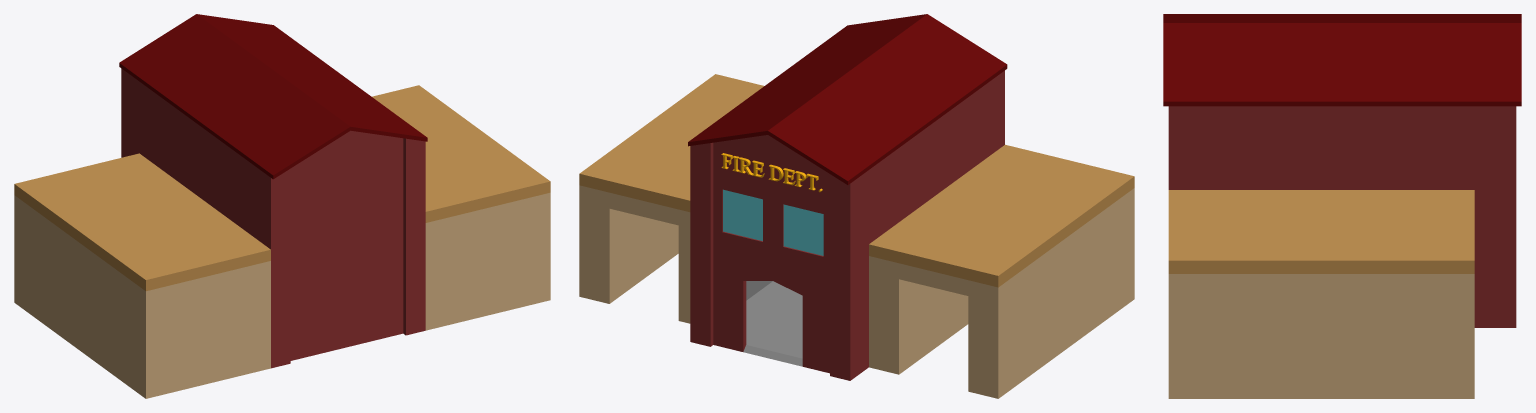
File: FireDept.fbx
3 renders of one model, left to right at view 1: azimuth 30°, elevation 25°; view 2: azimuth 150°, elevation 25°; view 3: azimuth 270°, elevation 25°, orthographic. The views are drawn at different scales.
Parts seen in each view (by area): view 1: Model; view 2: Model; view 3: Model.
Part boxes in pixels (left/top/right/bottom): Model: left=14, top=14, right=550, bottom=398; Model: left=579, top=14, right=1134, bottom=398; Model: left=1163, top=14, right=1521, bottom=398.
Bounding box in the file's own units: 309 × 164 × 204.
